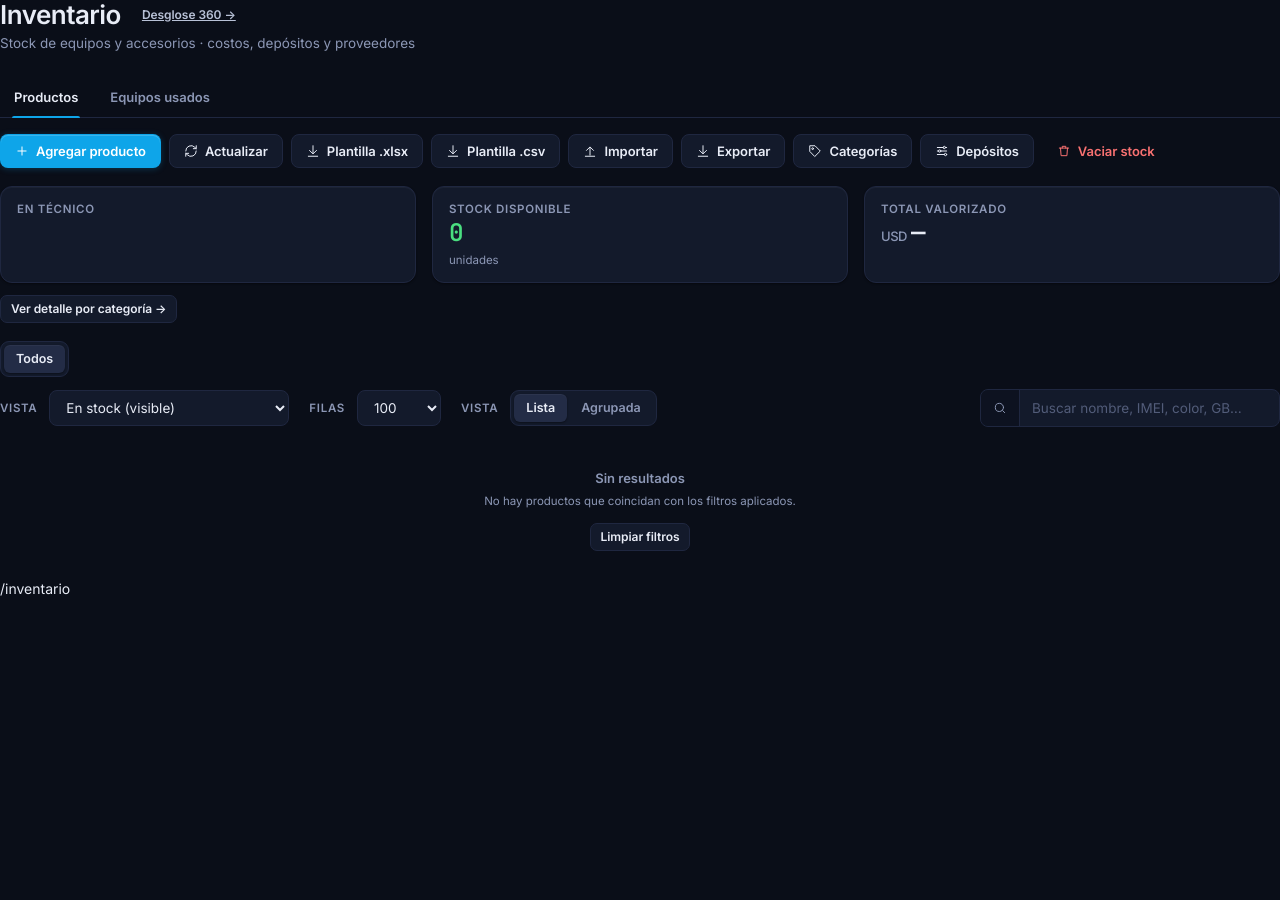
it: Pantalla Inventario › abre modal "Agregar producto" sin crashear
Click the button "Agregar producto" at (80, 151), box [0,134,161,168]
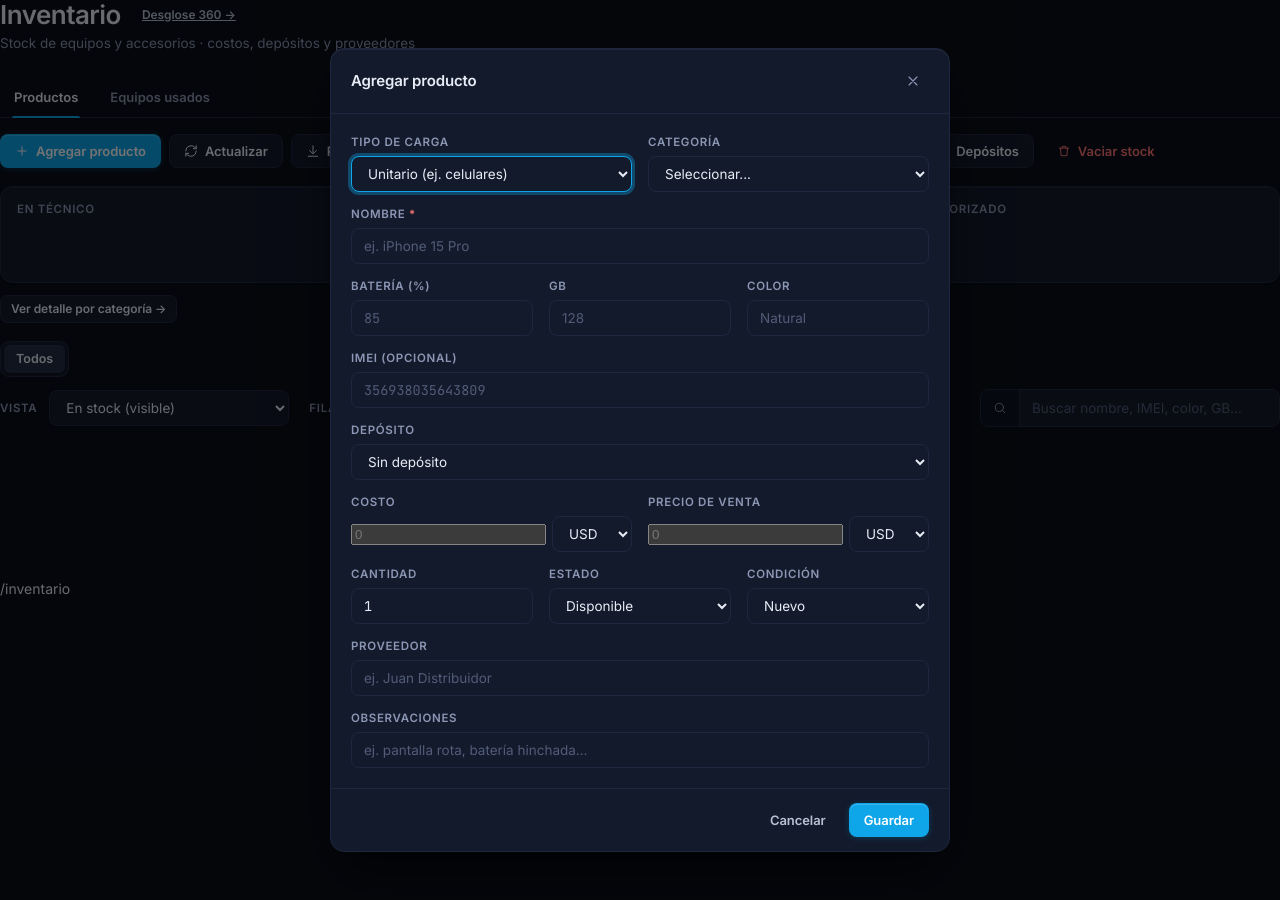
Check: the heading "Agregar producto" is shown, box [351,70,477,91]
Check: the text "Nombre *" is shown, box [351,207,416,221]
